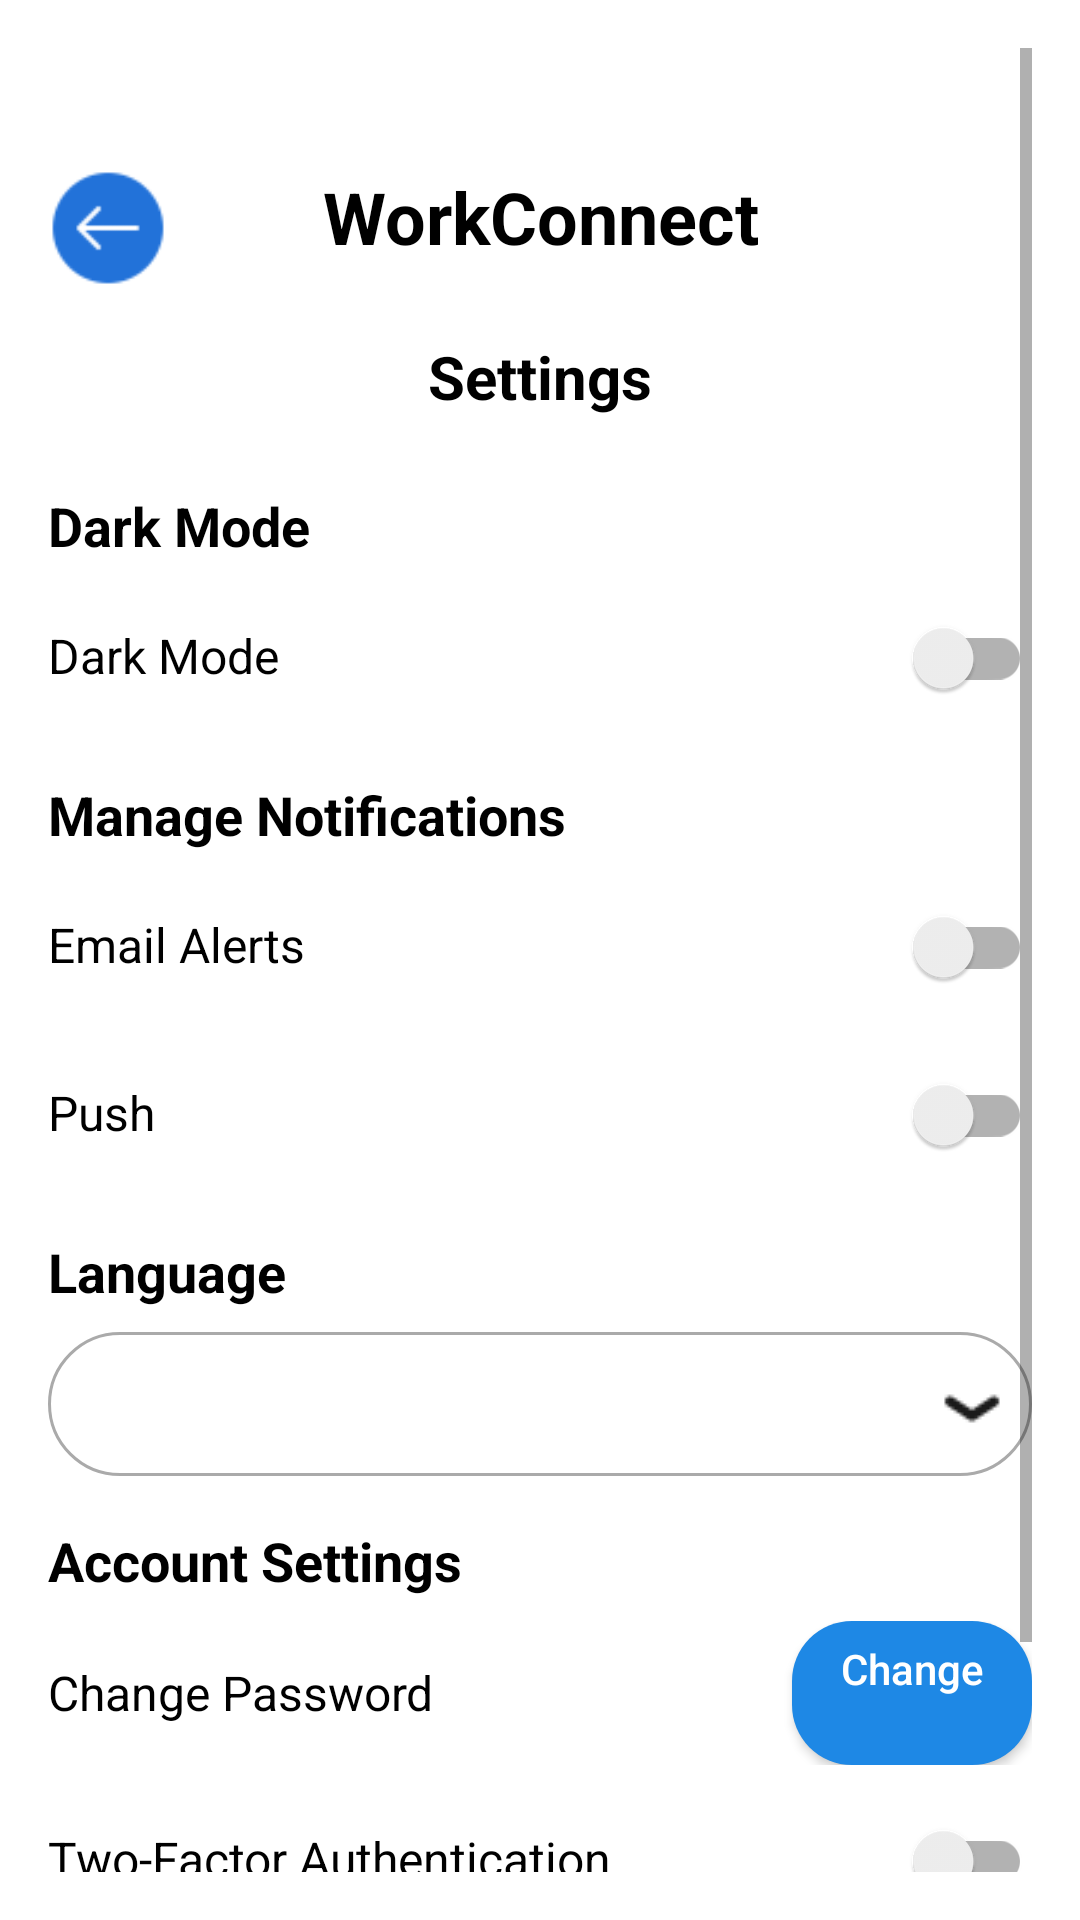

Where to tap for icons on this 1080px×1920px app screen, as [x,y]:
Back: [108,228]
chevron: [972,1408]
